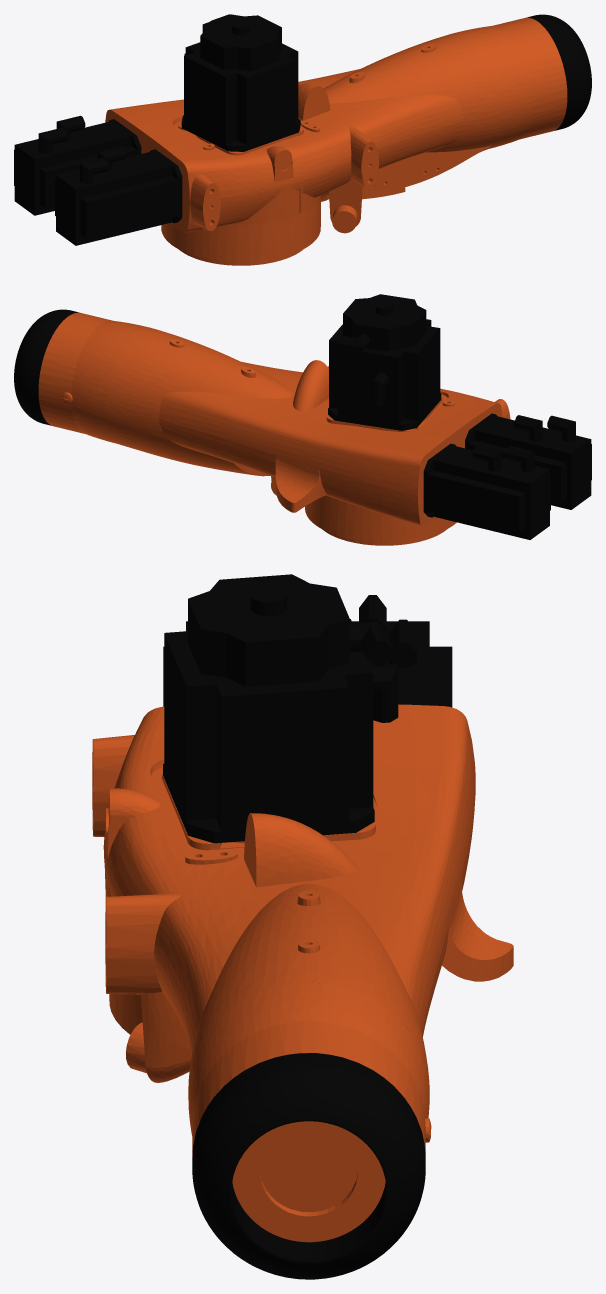
The model's file is like_kr240r2900_link_3_visuals_link_3_Scene_mesh.obj.
3 renders of one model, top to bottom at view 1: azimuth 30°, elevation 25°; view 2: azimuth 150°, elevation 25°; view 3: azimuth 270°, elevation 25°, orthographic. The views are drawn at different scales.
Bounding box in the file's own units: 1.58 × 0.6063 × 0.5475.
